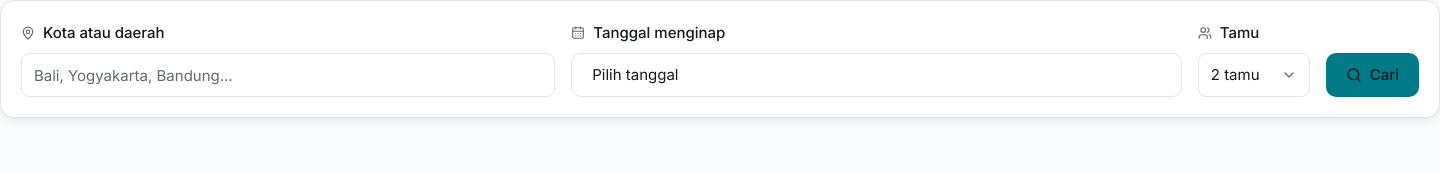
kriteria yang tidak lengkap ditolak sebelum dikirim › tanpa tanggal
The width and height of the screenshot is (1440, 173).
In the dropdown labelled "Kota atau daerah": (288, 75) [21,53,555,97], type "Bali"
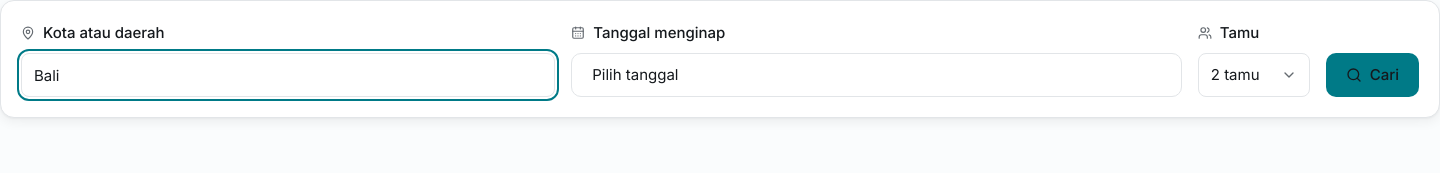
Click the button "Cari": click(1372, 75) [1326,53,1419,97]
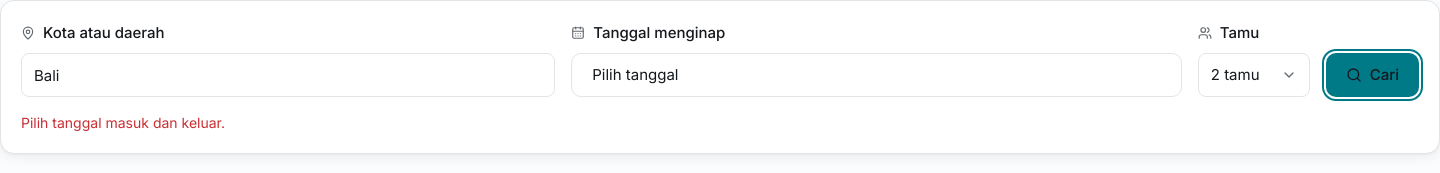
Result: the message shows "tanggal masuk dan keluar" at [21,114,225,131]
